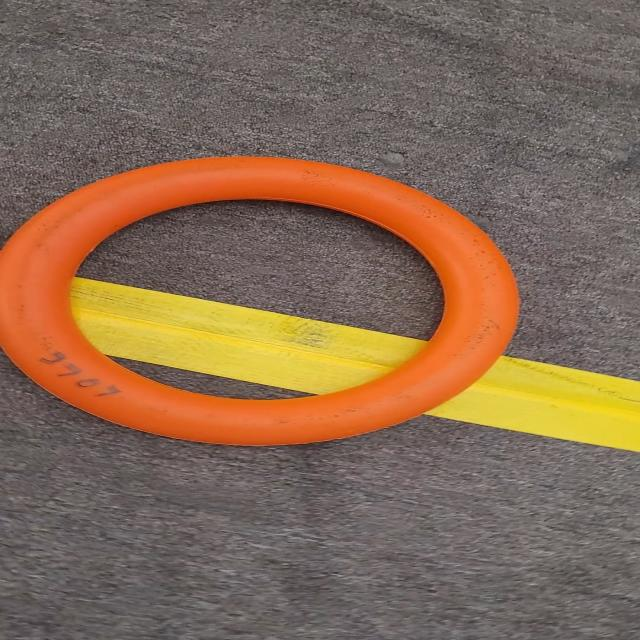note: (0, 160, 547, 461)
